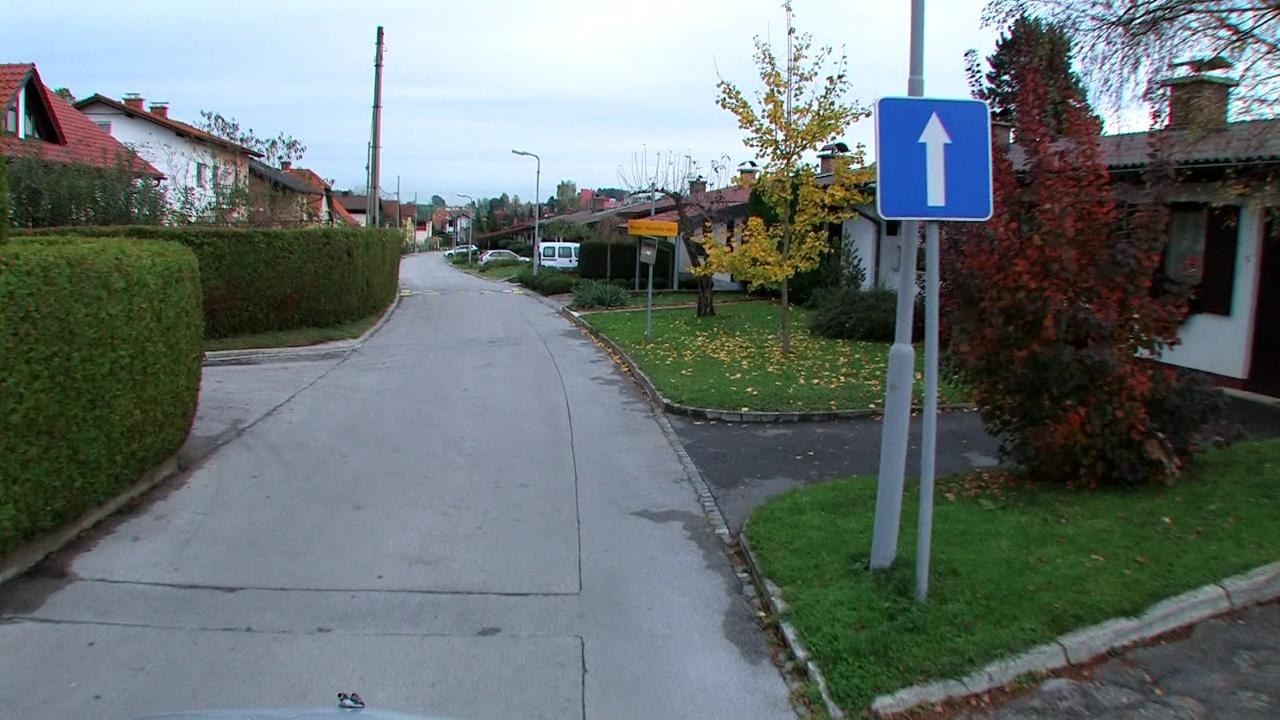Squared: (877, 96, 995, 221)
